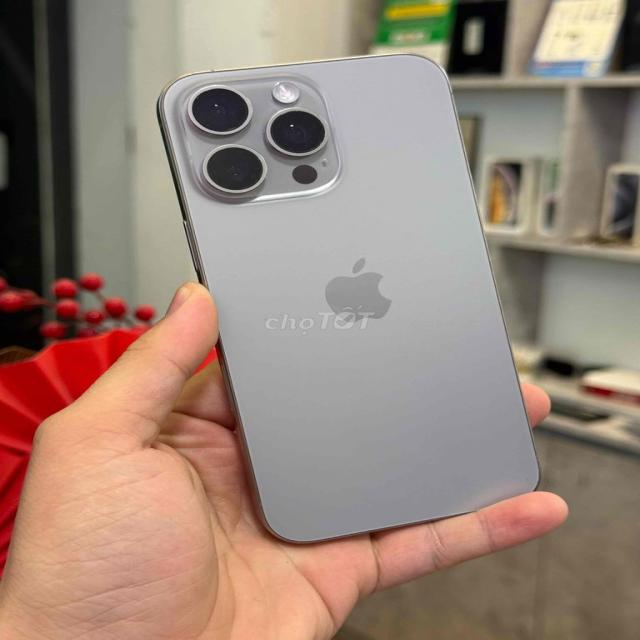gen_15: (158, 41, 551, 540)
